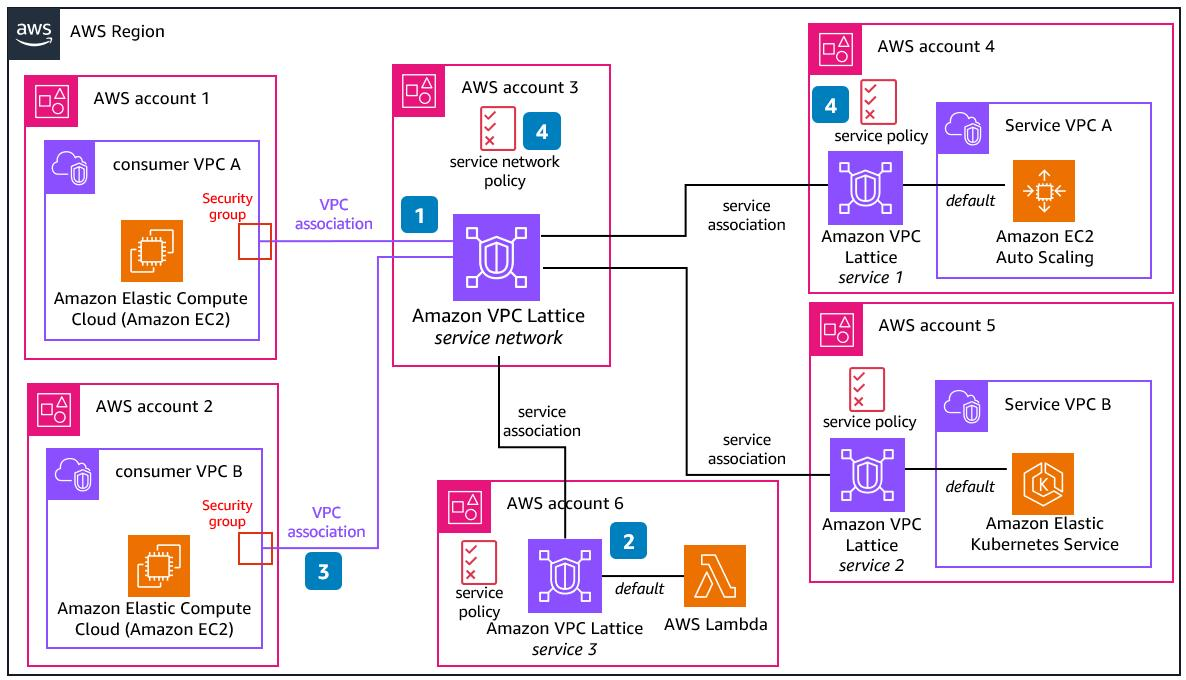Backend: (1012, 161, 1074, 223), (121, 222, 183, 282), (688, 544, 748, 604), (1019, 450, 1073, 512), (132, 538, 187, 594)
VPC: (458, 219, 529, 296), (830, 440, 907, 510), (829, 150, 901, 223), (532, 539, 600, 613)
